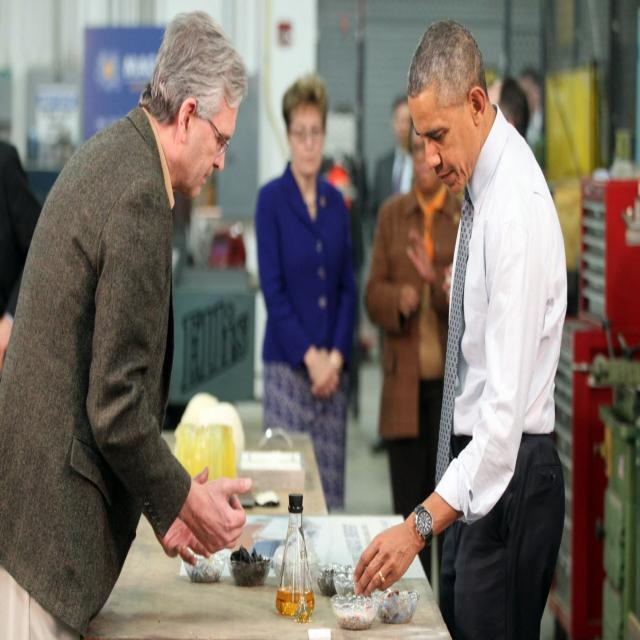body: (0, 5, 257, 639), (347, 16, 572, 640), (362, 117, 466, 593), (250, 74, 360, 521), (0, 139, 46, 361), (482, 58, 550, 166), (370, 96, 418, 218)
